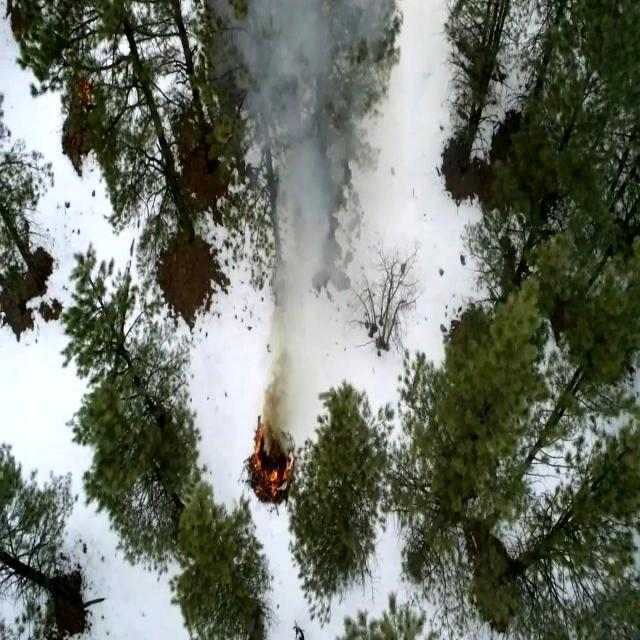Fire: (266, 460, 282, 495)
Smoke: (239, 5, 353, 428)
